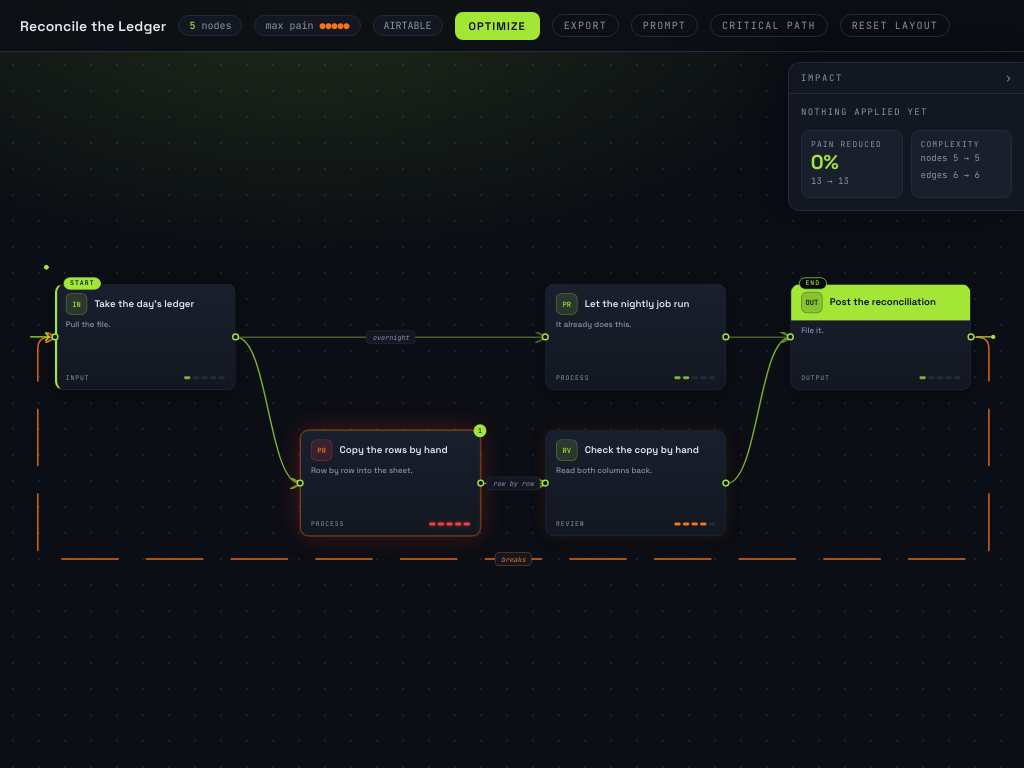
Test case: leaves a stepped-back card open to a pointer
The width and height of the screenshot is (1024, 768).
Click the button with test id "critpath-btn" at [769, 26], box x1=710 y1=14 x2=828 y2=37
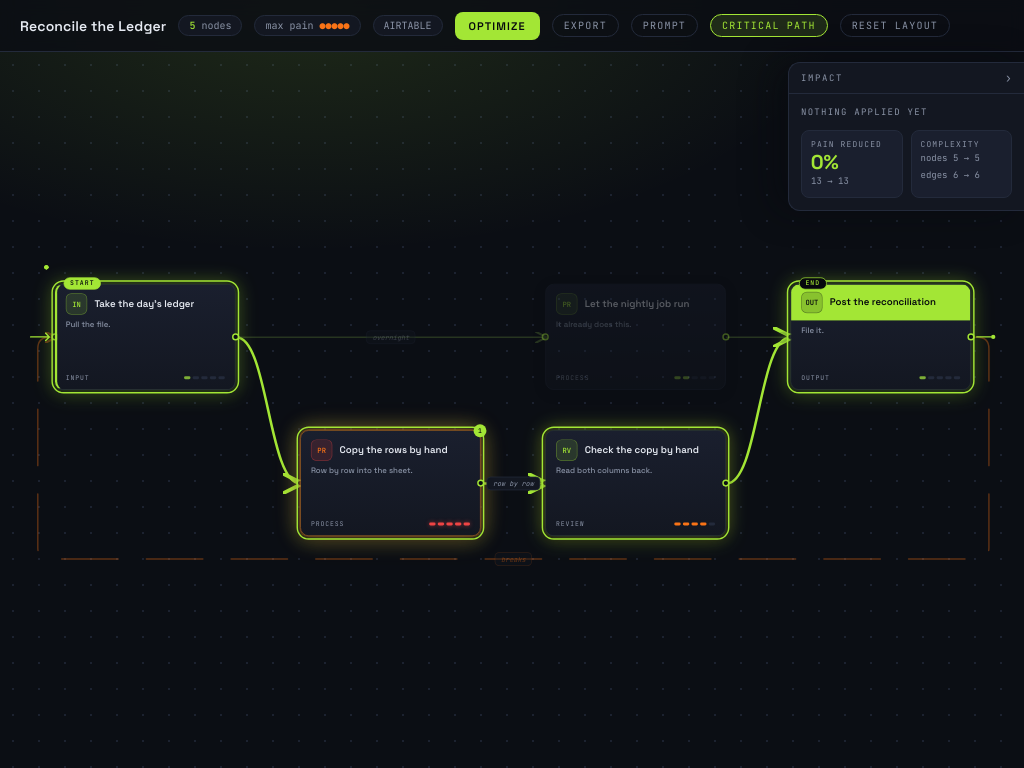
Click the element with test id "sg-node" that starts with "Let the nightly job run" at [636, 337], box x1=545 y1=284 x2=726 y2=390
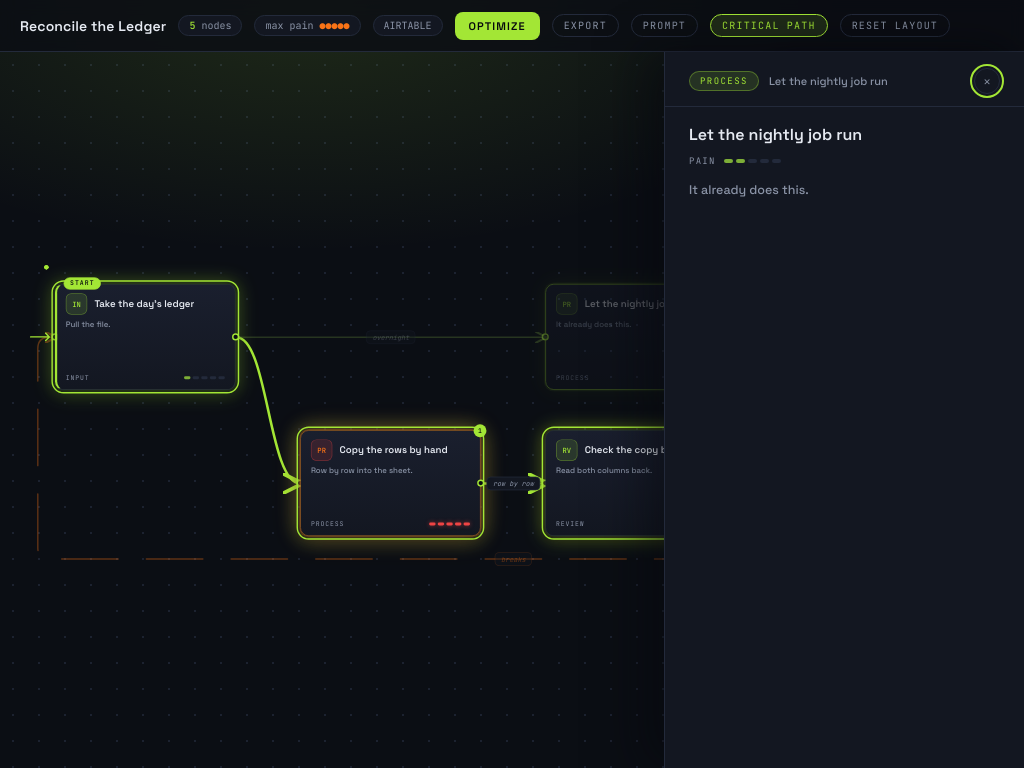
Now the dialog with test id "detail-drawer" shows "Let the nightly job run", box x1=769 y1=74 x2=888 y2=88
